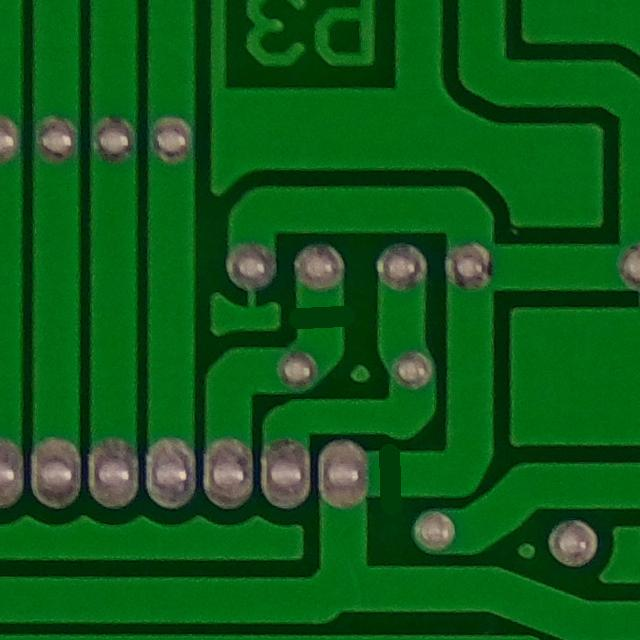open_circuit: (287, 291, 353, 349)
